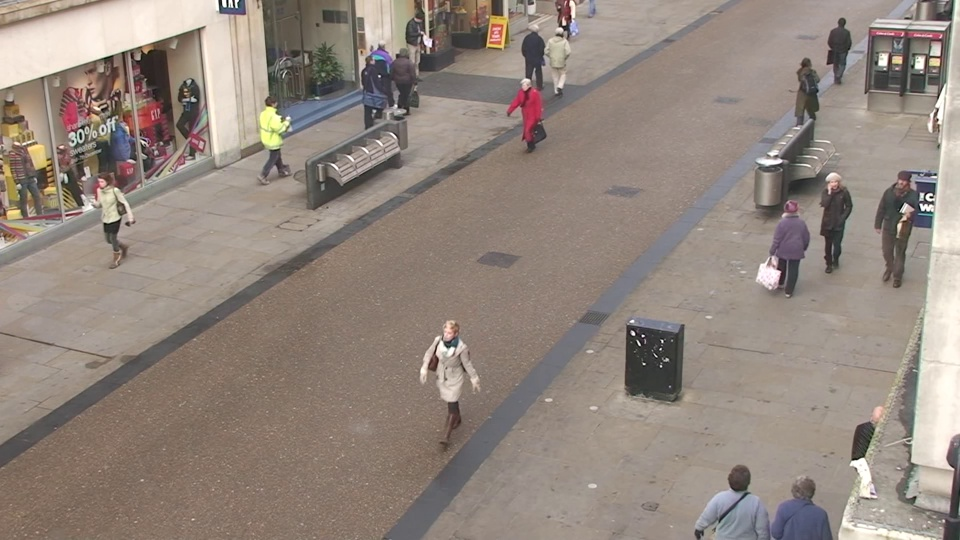pedestrian: (427, 313, 477, 460), (705, 451, 768, 540), (875, 167, 923, 279), (767, 460, 832, 540), (86, 168, 134, 274), (768, 194, 811, 311), (809, 168, 852, 279), (256, 91, 290, 179), (787, 54, 819, 135), (513, 75, 542, 160), (823, 15, 854, 88), (355, 53, 384, 130), (391, 45, 419, 120), (368, 37, 395, 110), (548, 23, 572, 93), (523, 20, 547, 89), (408, 10, 432, 76)
